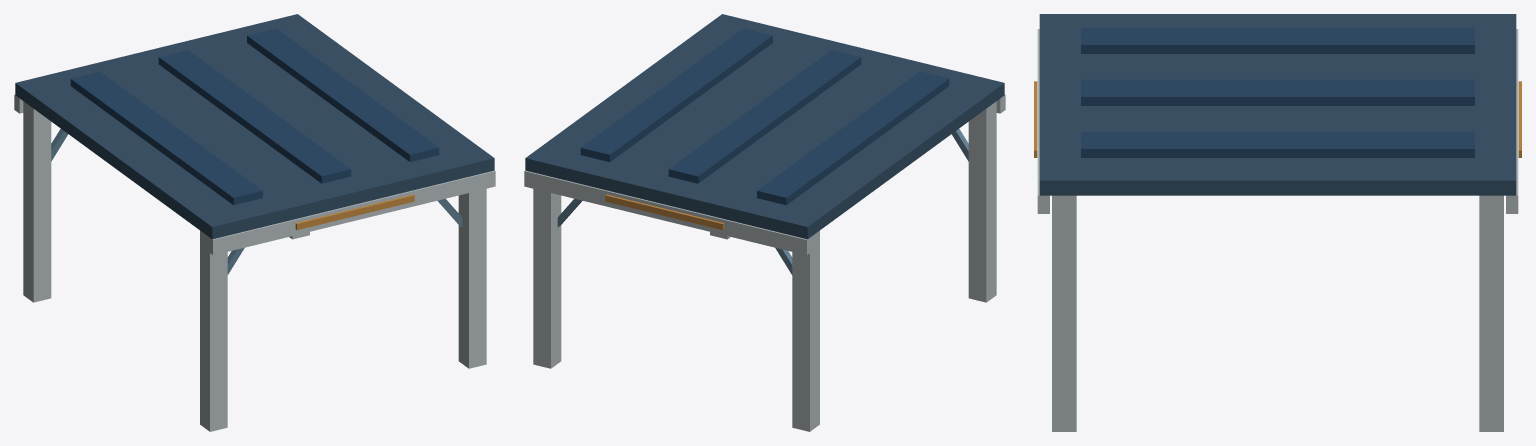
Rendered from SpaceStation_CargoCanopy_Showcase.glb.
3 views of the same model, side by side, from view 1: azimuth 30°, elevation 25°; view 2: azimuth 150°, elevation 25°; view 3: azimuth 270°, elevation 25° (orthographic). The views are drawn at different scales.
Visible parts, largest first — view 1: SpaceStation_CargoCanopy_Showcase; view 2: SpaceStation_CargoCanopy_Showcase; view 3: SpaceStation_CargoCanopy_Showcase.
Boxes of the visible parts, x1,y1,x2,y2 form: SpaceStation_CargoCanopy_Showcase: [14, 14, 495, 431]; SpaceStation_CargoCanopy_Showcase: [524, 14, 1005, 431]; SpaceStation_CargoCanopy_Showcase: [1034, 14, 1521, 431].
Size of the model in its own units: 4.8 by 3.52 by 5.94.
